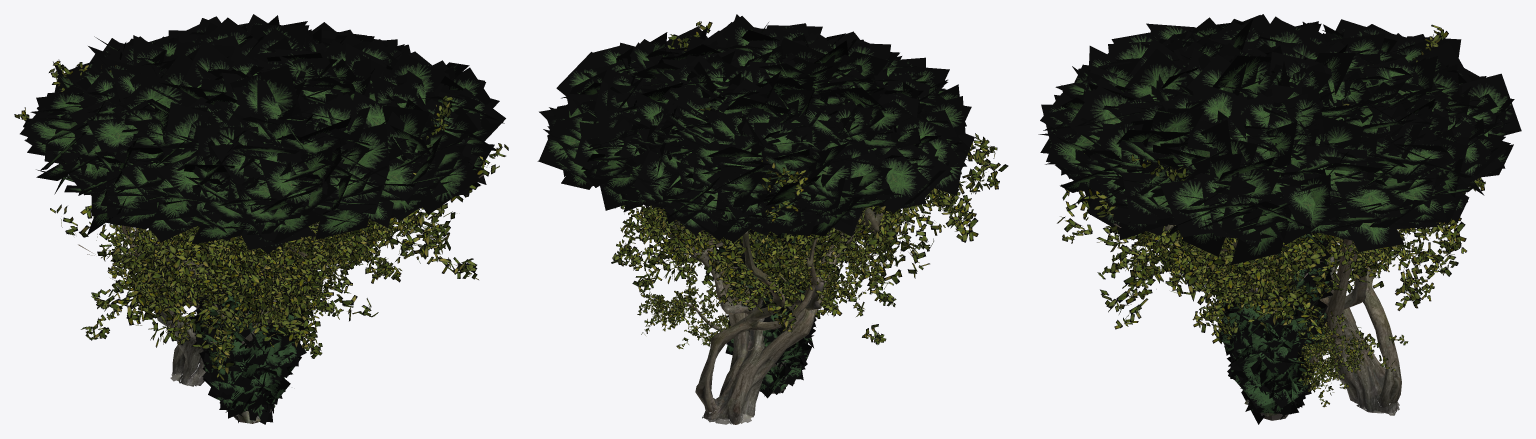
Rendered from arboles_ph.glb.
The picture shows the model from 3 angles, left to right: view 1: azimuth 30°, elevation 25°; view 2: azimuth 150°, elevation 25°; view 3: azimuth 270°, elevation 25°; orthographic projection. The views are drawn at different scales.
Parts seen in each view (by area): view 1: P_pino_hojas, P_olivo_hojas, P_frondo_hojas, P_cipres_hojas, P_olivo_tronco, P_frondo_tronco; view 2: P_pino_hojas, P_olivo_hojas, P_frondo_hojas, P_olivo_tronco, P_cipres_hojas, P_frondo_tronco; view 3: P_pino_hojas, P_olivo_hojas, P_frondo_hojas, P_cipres_hojas, P_olivo_tronco, P_frondo_tronco.
Part boxes in pixels (x1,y1,x2,y2): P_pino_hojas: [20, 14, 505, 253]; P_olivo_hojas: [14, 59, 508, 347]; P_frondo_hojas: [81, 220, 420, 381]; P_cipres_hojas: [189, 74, 308, 424]; P_olivo_tronco: [121, 225, 318, 386]; P_frondo_tronco: [126, 245, 343, 423]; P_pino_hojas: [537, 14, 974, 242]; P_olivo_hojas: [611, 21, 1008, 332]; P_frondo_hojas: [615, 107, 900, 348]; P_olivo_tronco: [695, 206, 884, 424]; P_cipres_hojas: [717, 76, 823, 398]; P_frondo_tronco: [667, 220, 823, 386]; P_pino_hojas: [1038, 14, 1521, 264]; P_olivo_hojas: [1057, 24, 1485, 334]; P_frondo_hojas: [1097, 99, 1430, 407]; P_cipres_hojas: [1214, 61, 1332, 424]; P_olivo_tronco: [1164, 224, 1401, 415]; P_frondo_tronco: [1207, 248, 1378, 416].
Size of the model in its own units: 1.35 by 1.12 by 1.32.
Materials: 9 (9 with a texture image).
